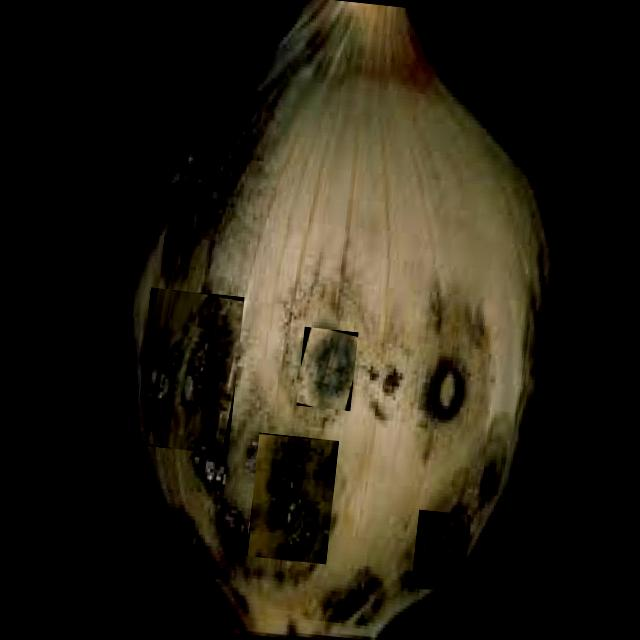mould: (134, 287, 244, 454), (245, 432, 338, 564), (296, 326, 358, 411), (410, 510, 470, 592)
